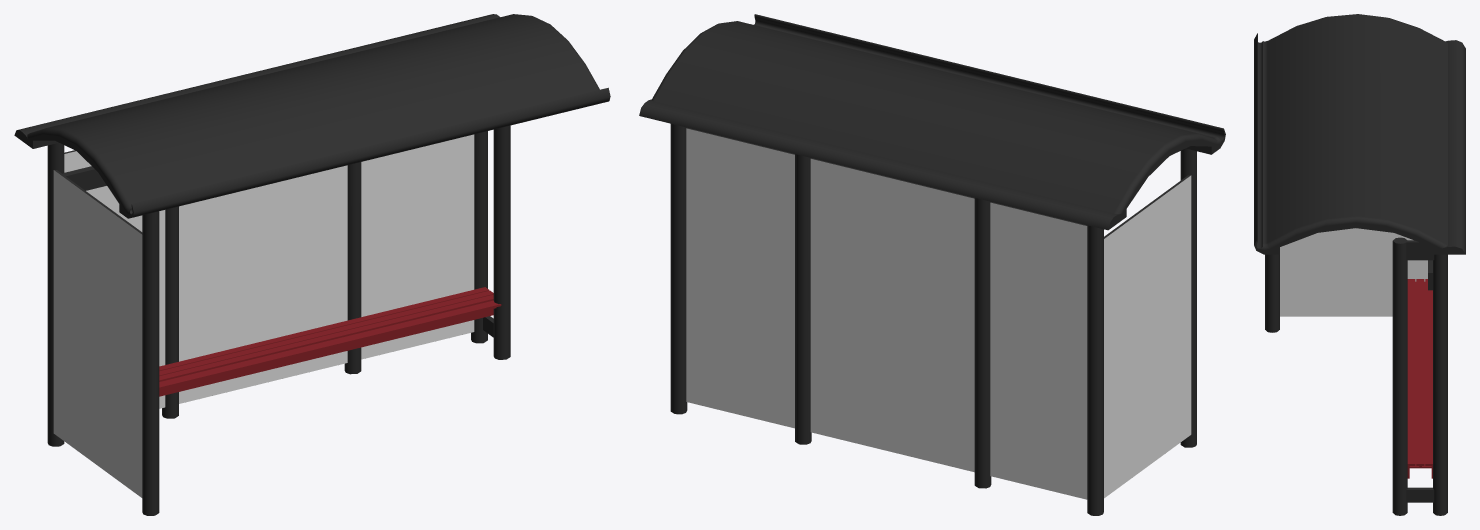
File: shelter-transformed.glb
3 renders of one model, left to right at view 1: azimuth 30°, elevation 25°; view 2: azimuth 150°, elevation 25°; view 3: azimuth 270°, elevation 25°, orthographic. The views are drawn at different scales.
Parts seen in each view (by area): view 1: Osta; view 2: Osta; view 3: Osta.
Part boxes in pixels (box(x1,y1,x2,y2)): Osta: box(14, 14, 610, 515); Osta: box(639, 14, 1225, 515); Osta: box(1254, 14, 1465, 515).
Size of the model in its own units: 37.44 by 25.9 by 16.25.
